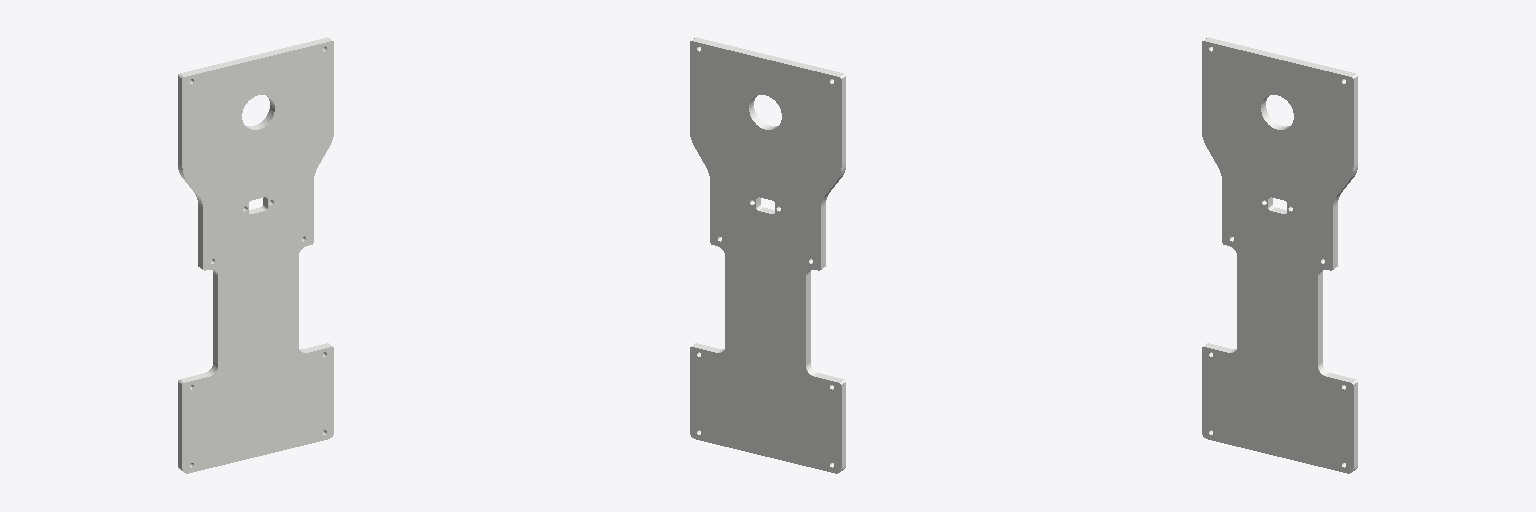
Rendered from chassis_top.obj.
The picture shows the model from 3 angles: view 1: azimuth 30°, elevation 25°; view 2: azimuth 150°, elevation 25°; view 3: azimuth 330°, elevation 25°; orthographic projection.
Visible parts, largest first — view 1: Body1; view 2: Body1; view 3: Body1.
Part boxes in pixels (x1,y1,x2,y2): Body1: (178, 37, 333, 473); Body1: (690, 37, 845, 473); Body1: (1202, 37, 1357, 473).
Bounding box in the file's own units: 0.104 × 0.26 × 0.0058.